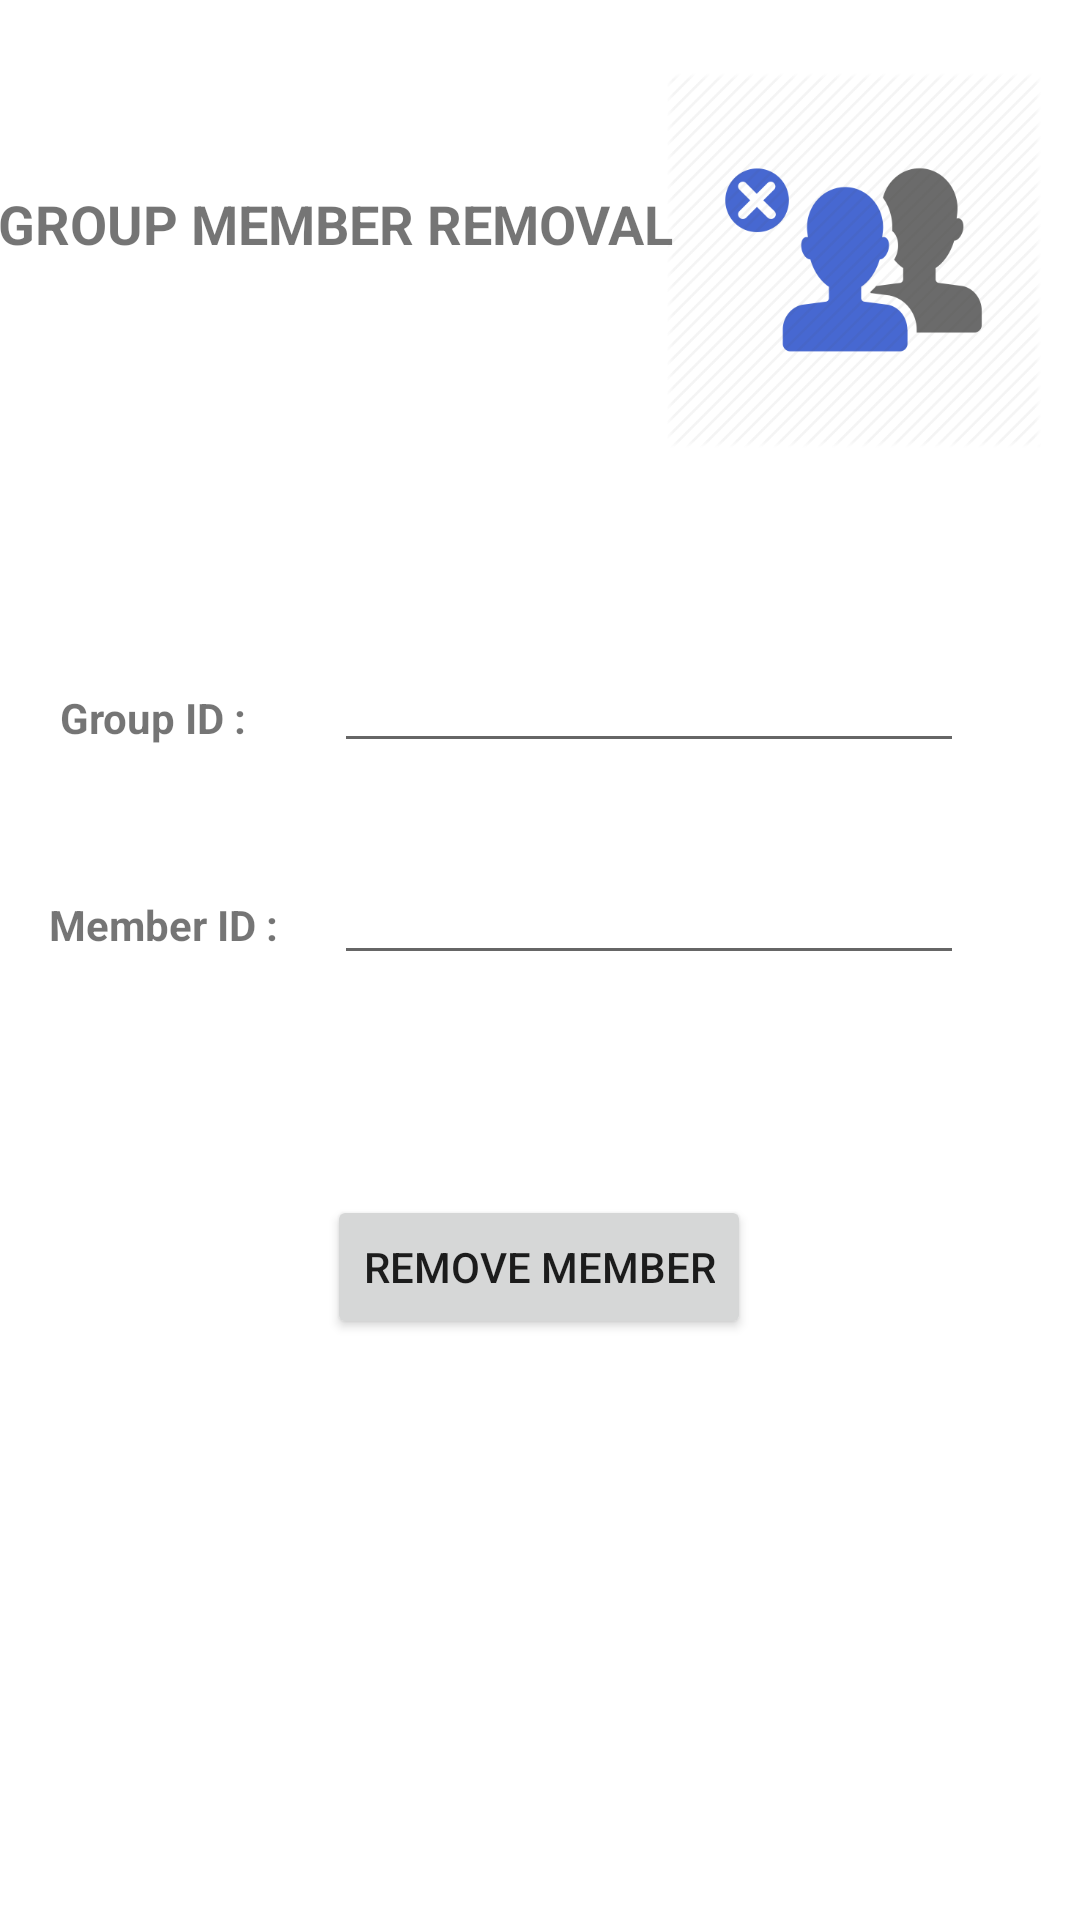

Screen size 1080 × 1920. Icon name, then its center in pixels as (x,y):
deleteuser: (853,260)
